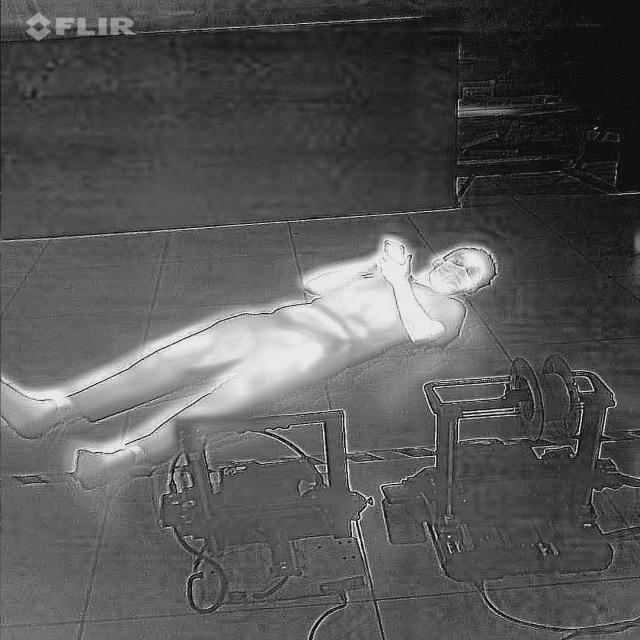Victim: (1, 224, 517, 490)
